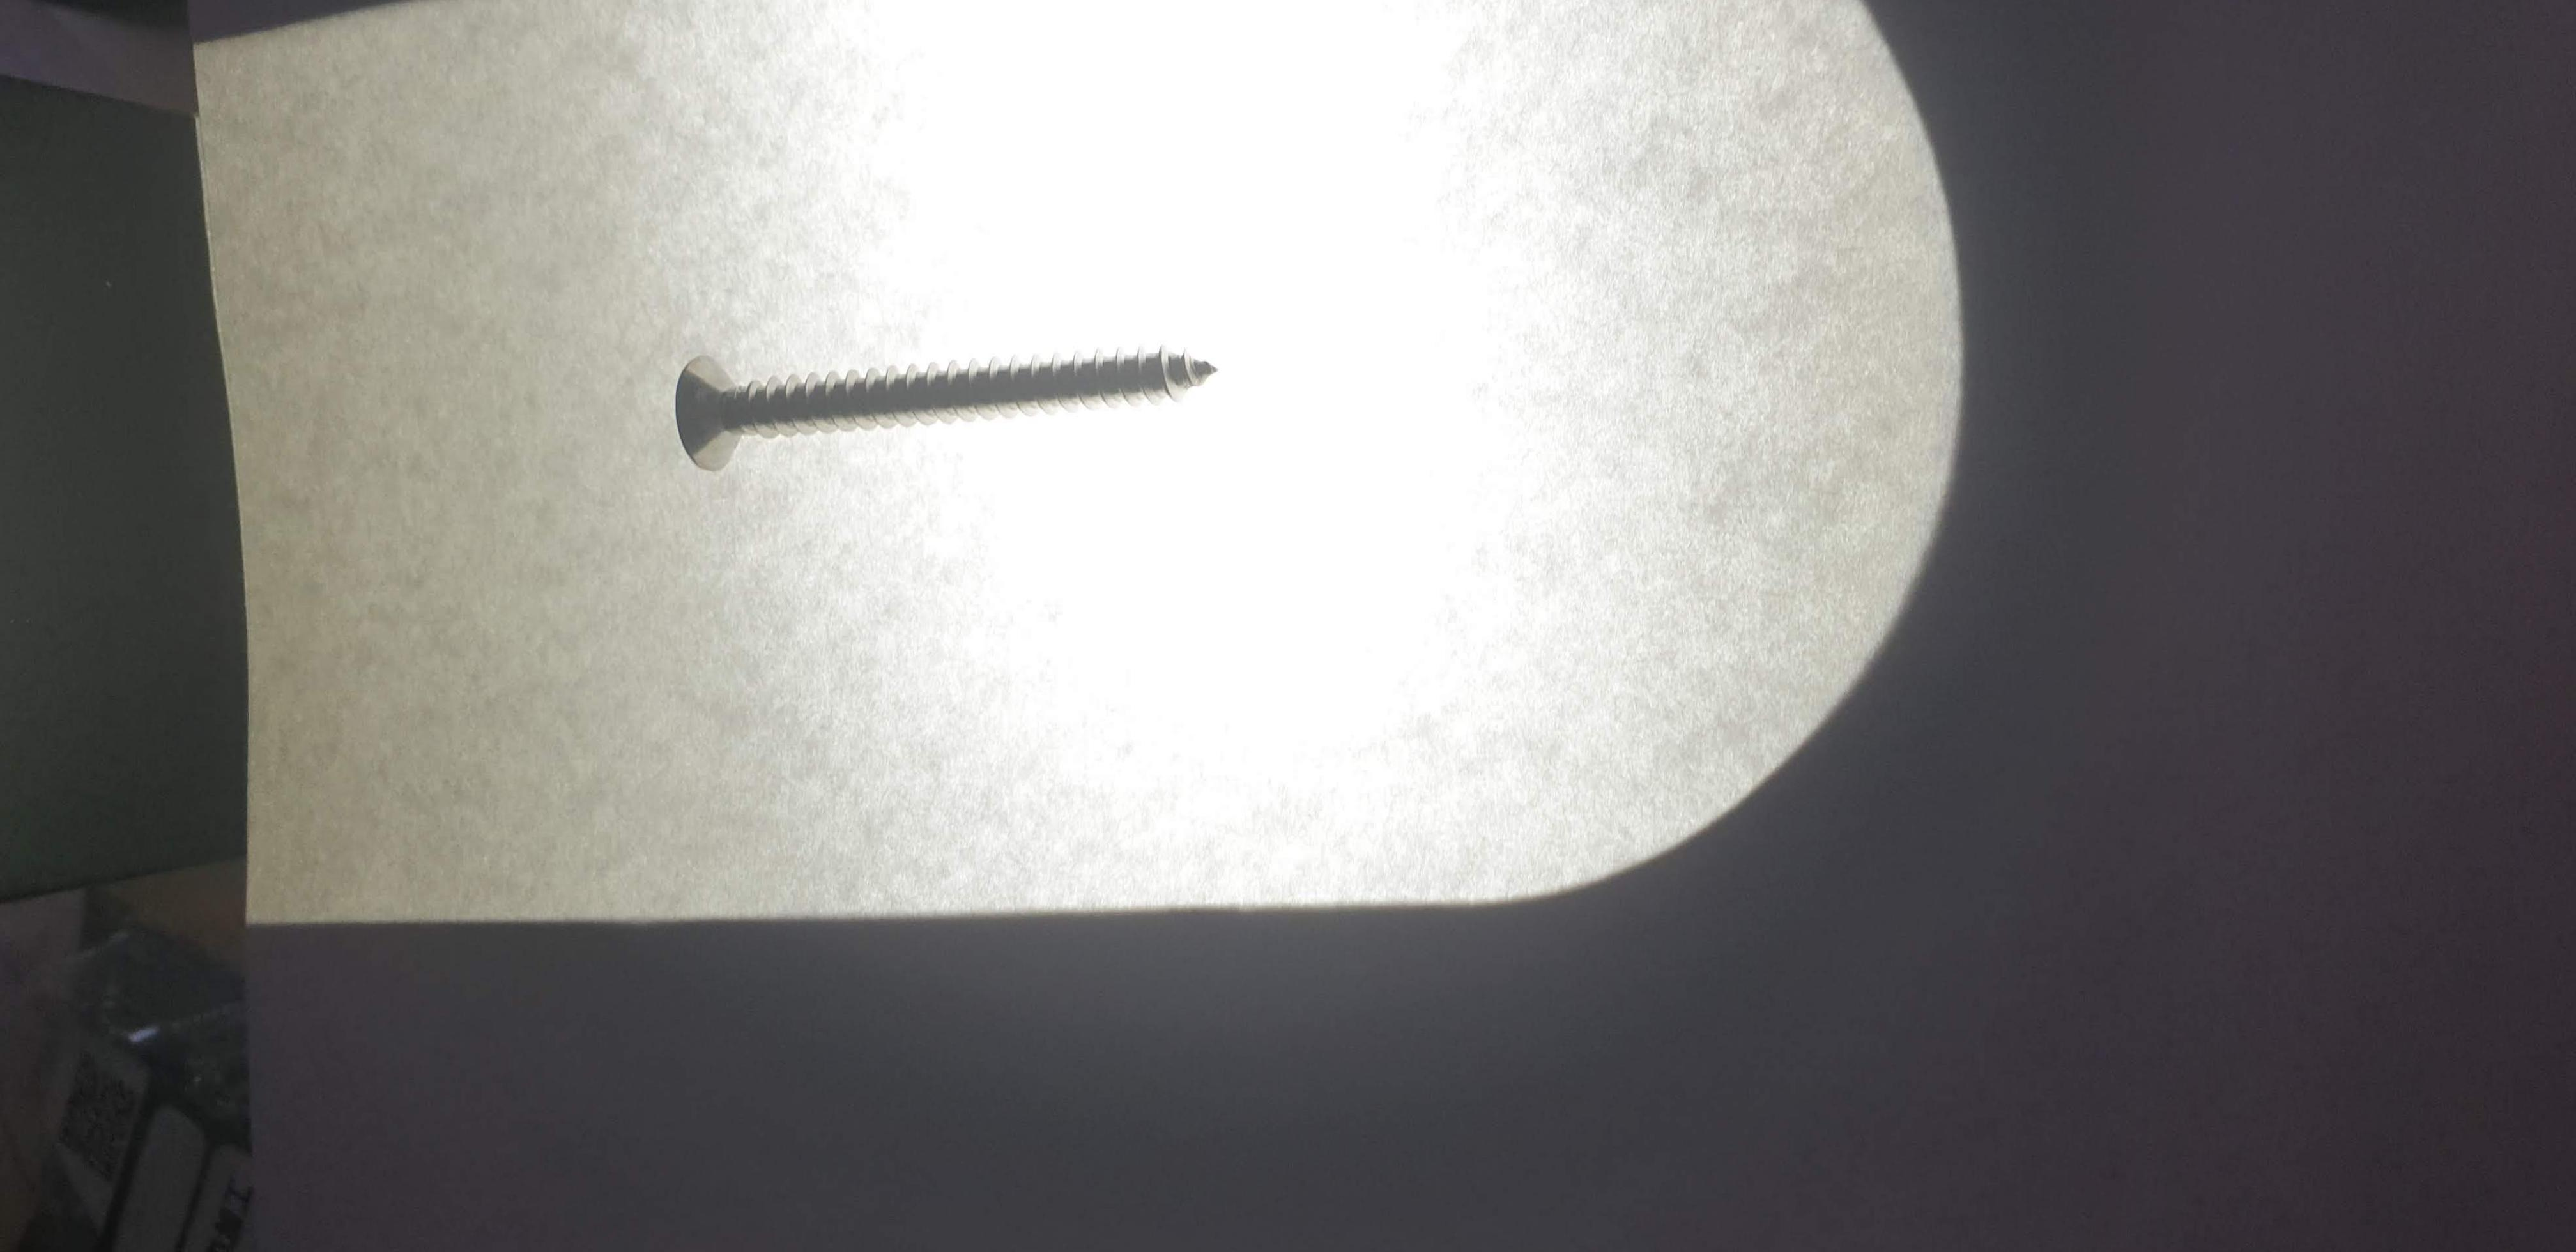S001: (634, 296, 1268, 483)
